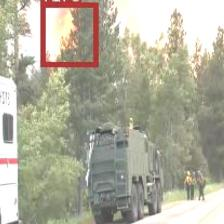fire: (41, 2, 98, 65)
